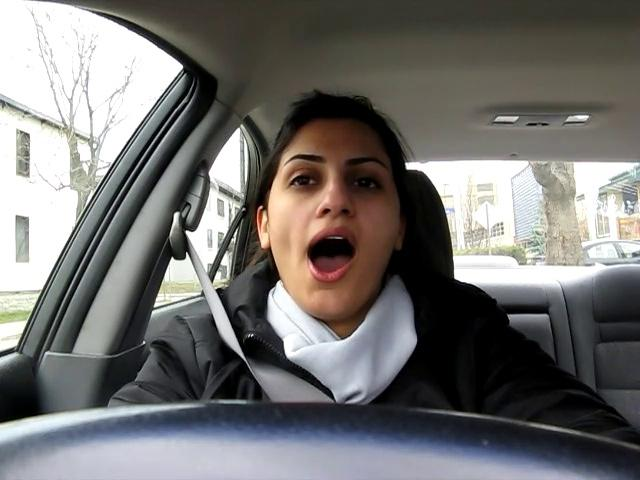open_eyeL: (276, 165, 332, 201)
open_eyeR: (337, 167, 403, 202)
yawn: (285, 226, 371, 281)
